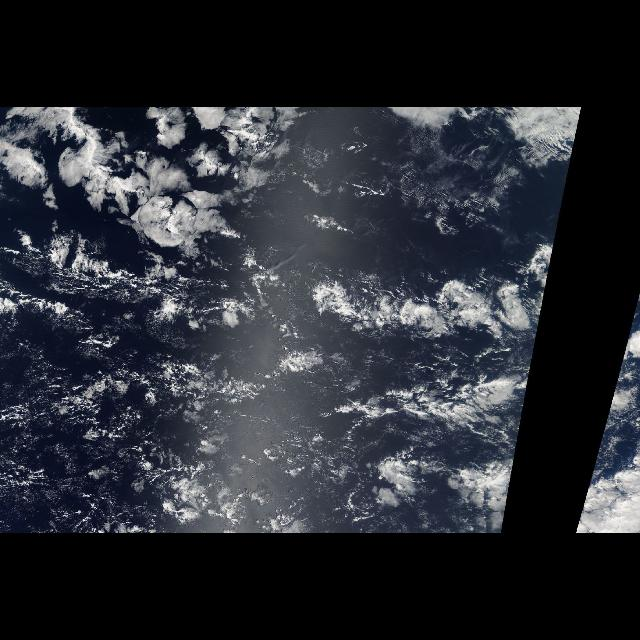Fish: (254, 243, 556, 452), (600, 291, 640, 444)
Flower: (6, 115, 330, 282)
